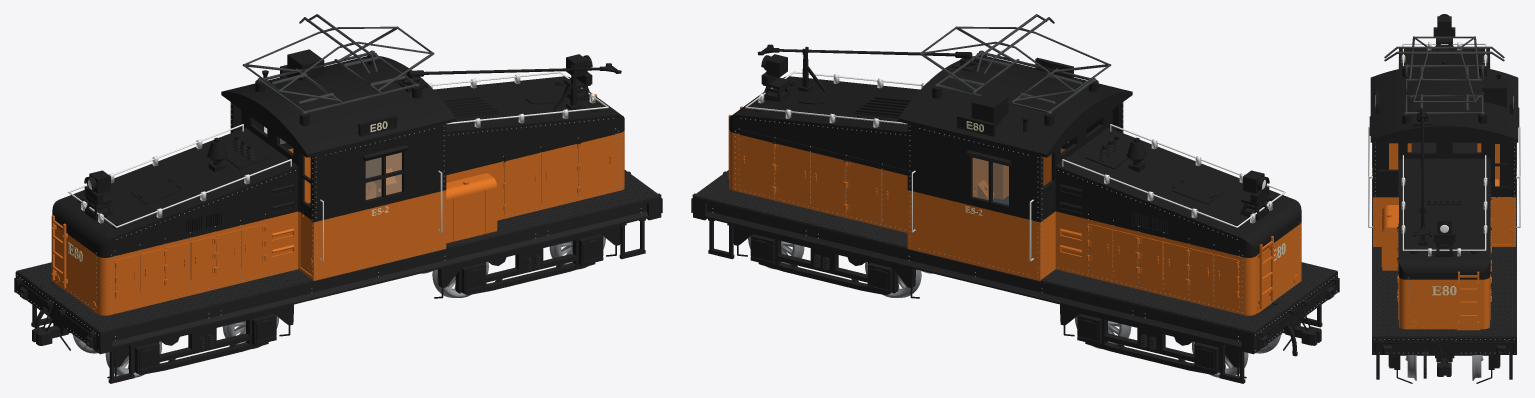
Rendered from E80_ORANGE_BLACK.glb.
The picture shows the model from 3 angles, left to right: view 1: azimuth 30°, elevation 25°; view 2: azimuth 150°, elevation 25°; view 3: azimuth 270°, elevation 25°; orthographic projection. The views are drawn at different scales.
Parts seen in each view (by area): view 1: high, low, frame, roof, trucks, walk, panto, lights, handrails, wheels, wire, glass (+1 smaller); view 2: high, low, frame, roof, trucks, walk, panto, lights, handrails, wheels, wire, glass (+1 smaller); view 3: high, roof, low, walk, frame, panto, handrails, lights, wire, wheels, rivets, trucks (+1 smaller).
Part boxes in pixels (<box>): high: <box>52,76,624,257</box>; low: <box>51,94,624,315</box>; frame: <box>15,171,661,383</box>; roof: <box>221,49,455,157</box>; trucks: <box>114,225,620,374</box>; walk: <box>16,170,660,333</box>; panto: <box>242,14,434,115</box>; lights: <box>84,54,592,216</box>; handrails: <box>68,71,608,261</box>; wheels: <box>72,236,605,377</box>; wire: <box>14,63,662,378</box>; glass: <box>264,126,401,199</box>; high: <box>729,76,1301,257</box>; low: <box>728,106,1301,315</box>; frame: <box>692,171,1338,383</box>; roof: <box>898,51,1132,157</box>; trucks: <box>733,225,1239,374</box>; walk: <box>693,170,1337,333</box>; panto: <box>919,14,1111,115</box>; lights: <box>761,46,1269,216</box>; handrails: <box>745,71,1285,261</box>; wheels: <box>748,236,1281,377</box>; wire: <box>691,44,1339,378</box>; glass: <box>973,142,1068,204</box>; high: <box>1369,45,1519,279</box>; roof: <box>1370,64,1518,142</box>; low: <box>1373,143,1515,330</box>; walk: <box>1372,142,1516,337</box>; frame: <box>1372,142,1516,379</box>; panto: <box>1384,36,1504,115</box>; handrails: <box>1368,42,1520,256</box>; lights: <box>1418,14,1455,253</box>; wire: <box>1374,117,1514,383</box>; wheels: <box>1405,355,1483,380</box>; rivets: <box>1372,54,1516,353</box>; trucks: <box>1388,355,1500,369</box>.
Bounding box in the file's own units: 0.4353 × 0.1886 × 0.1104.
